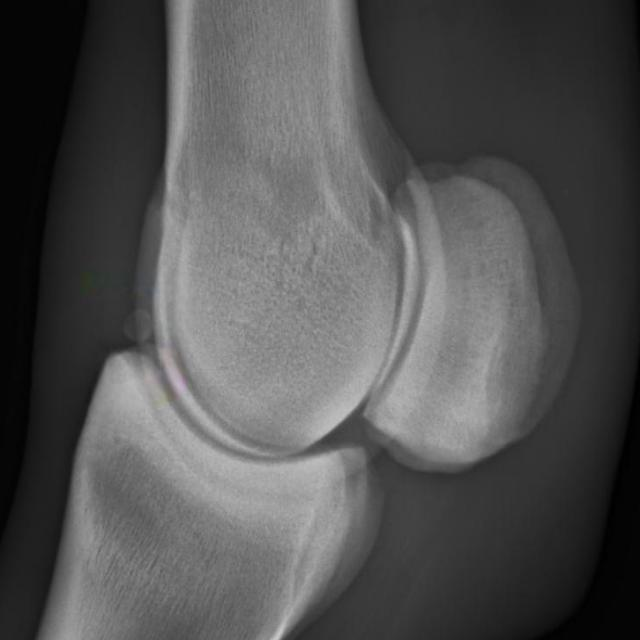bone remodeling: (51, 247, 254, 462)
